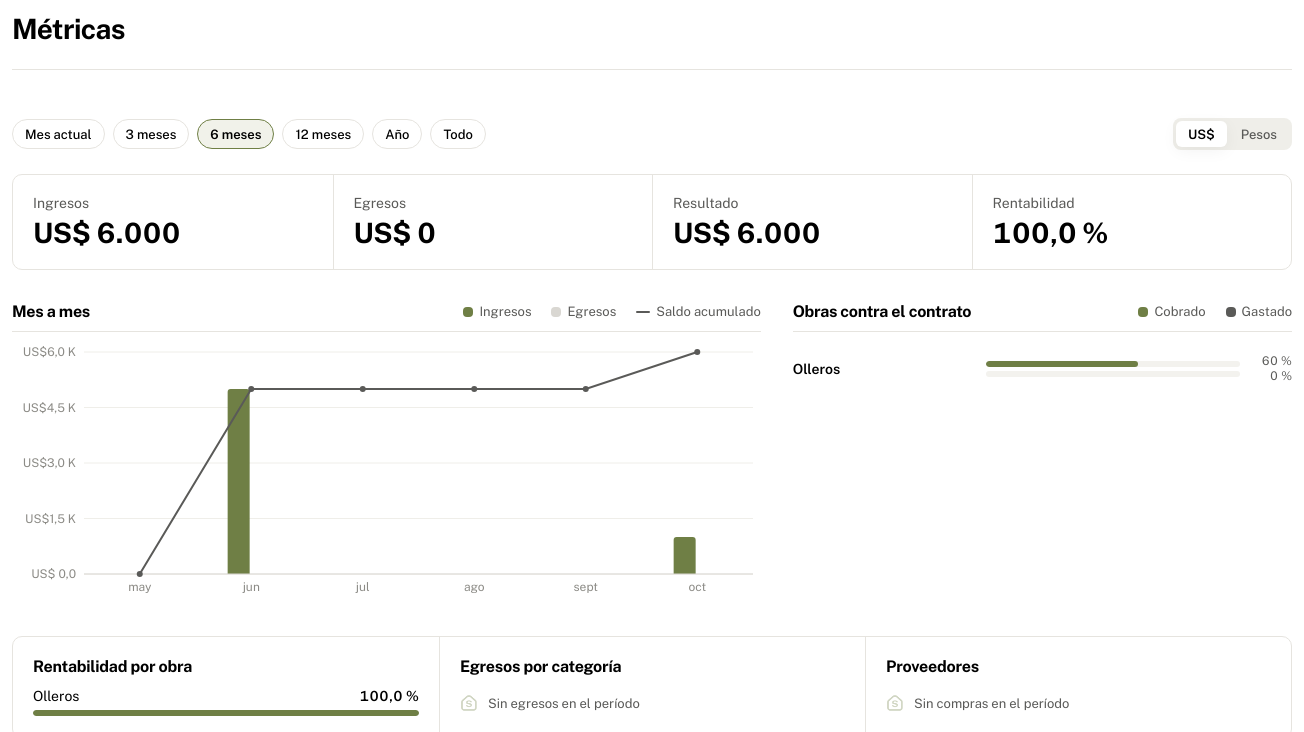
Metricas › el filtro de período cambia los números y queda marcado
Click the button "Mes actual" at coordinates (58, 134), box [12,119,105,149]
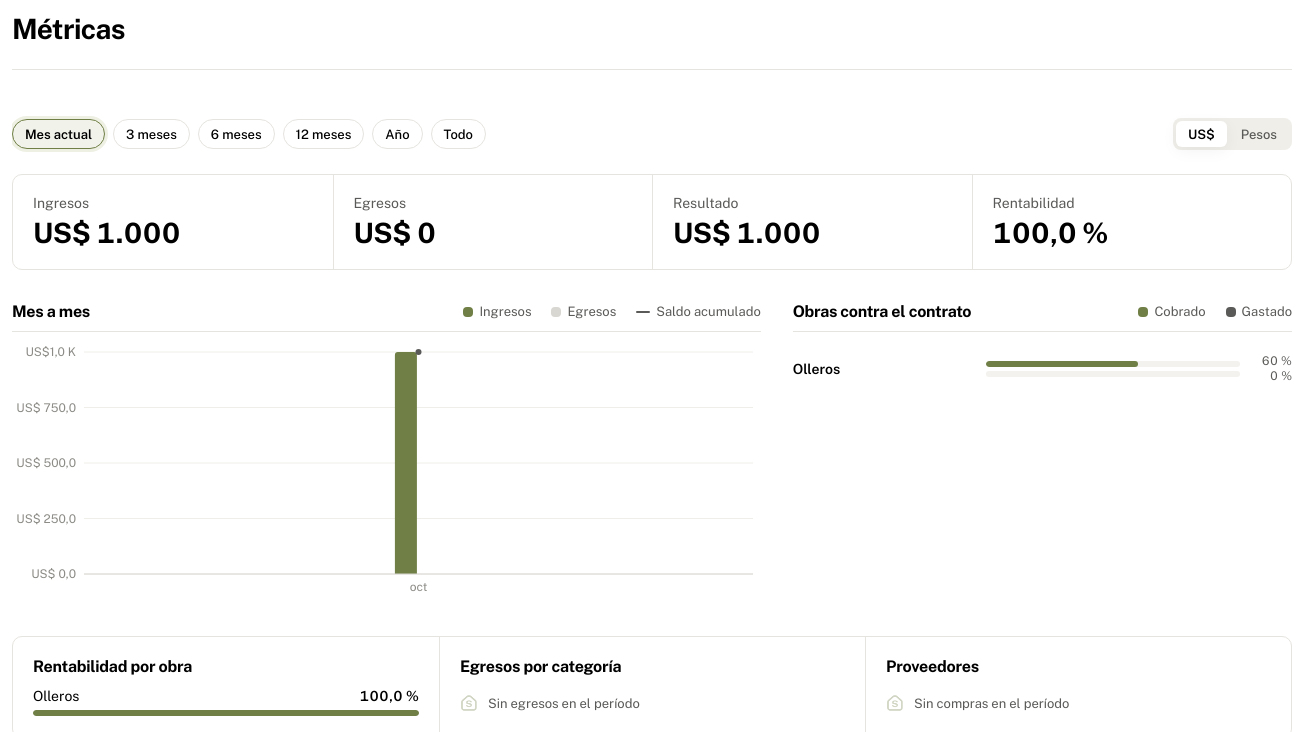
Expected: the 1st text with class "kpi-valor" shows "1.000", [33,216,180,249]
